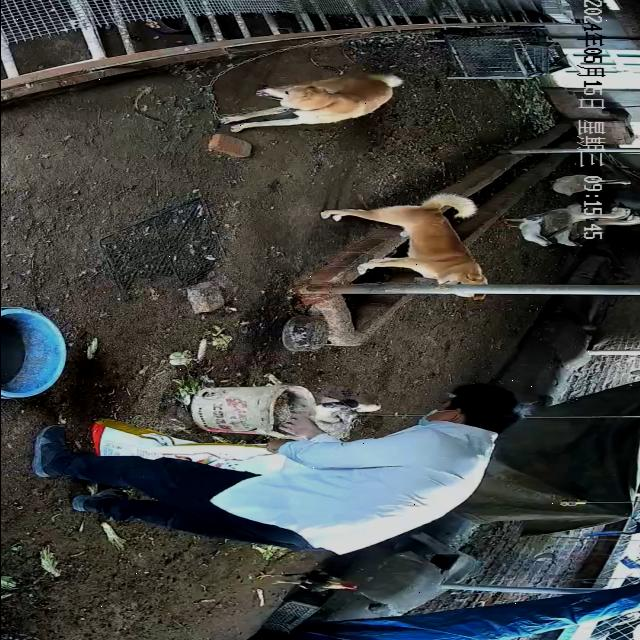dog: (319, 193, 491, 301), (218, 70, 404, 134)
